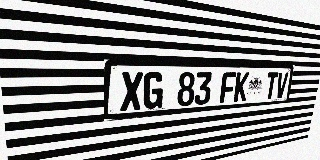3: (194, 72, 212, 105)
8: (177, 72, 196, 107)
F: (220, 72, 236, 103)
G: (143, 72, 164, 109)
K: (233, 72, 249, 102)
T: (264, 72, 279, 99)
V: (275, 72, 289, 98)
X: (120, 72, 143, 111)
